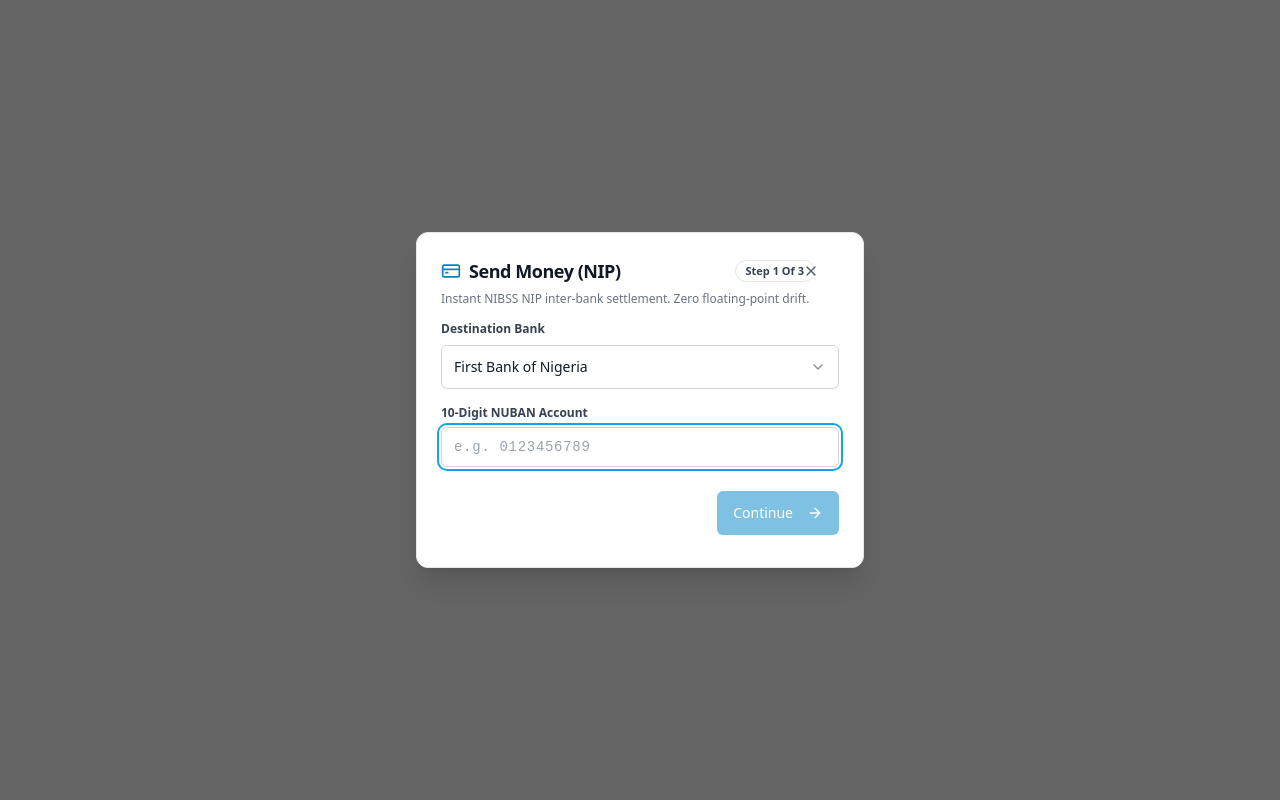
Test: SendMoneyModal component › resolves NUBAN account automatically when 10 digits are entered in Step 1
This screenshot has width=1280, height=800.
Expected: the heading "Send Money (NIP)" is shown, [441, 257, 620, 285]
Type "0123456789" into the field with placeholder "e.g. 0123456789" at coordinates (640, 447), box [441, 427, 839, 467]
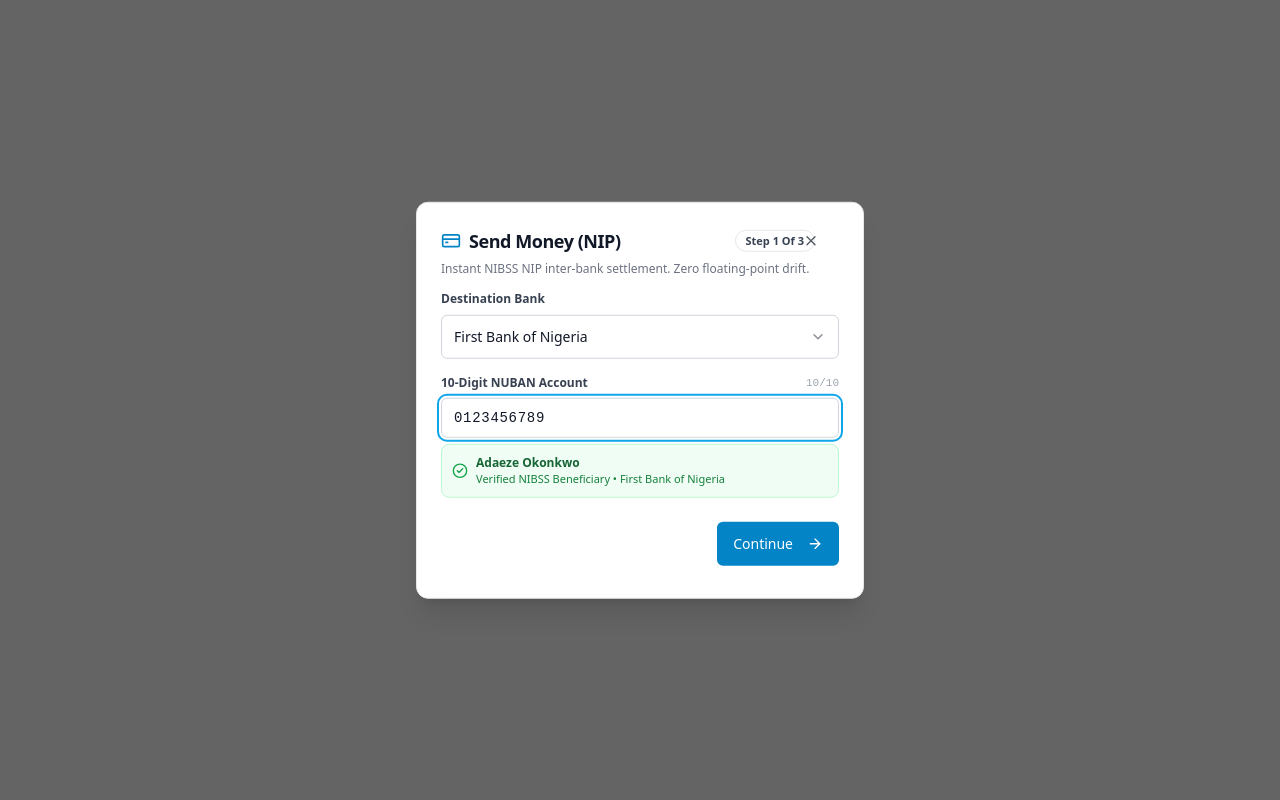
Expected: the text "Adaeze Okonkwo" is shown, [476, 453, 580, 470]
Expected: the text "Verified NIBSS Beneficiary • First Bank of Nigeria" is shown, [476, 470, 725, 485]
Expected: the button "Continue" is enabled, [717, 521, 839, 565]
